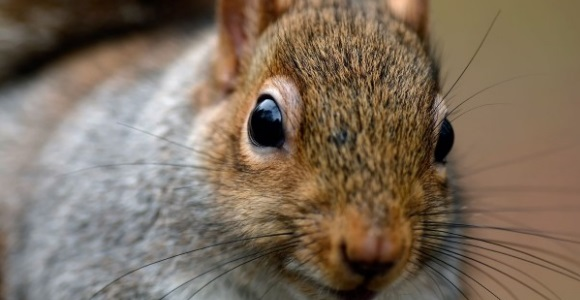Ardilla: (201, 7, 468, 292)
